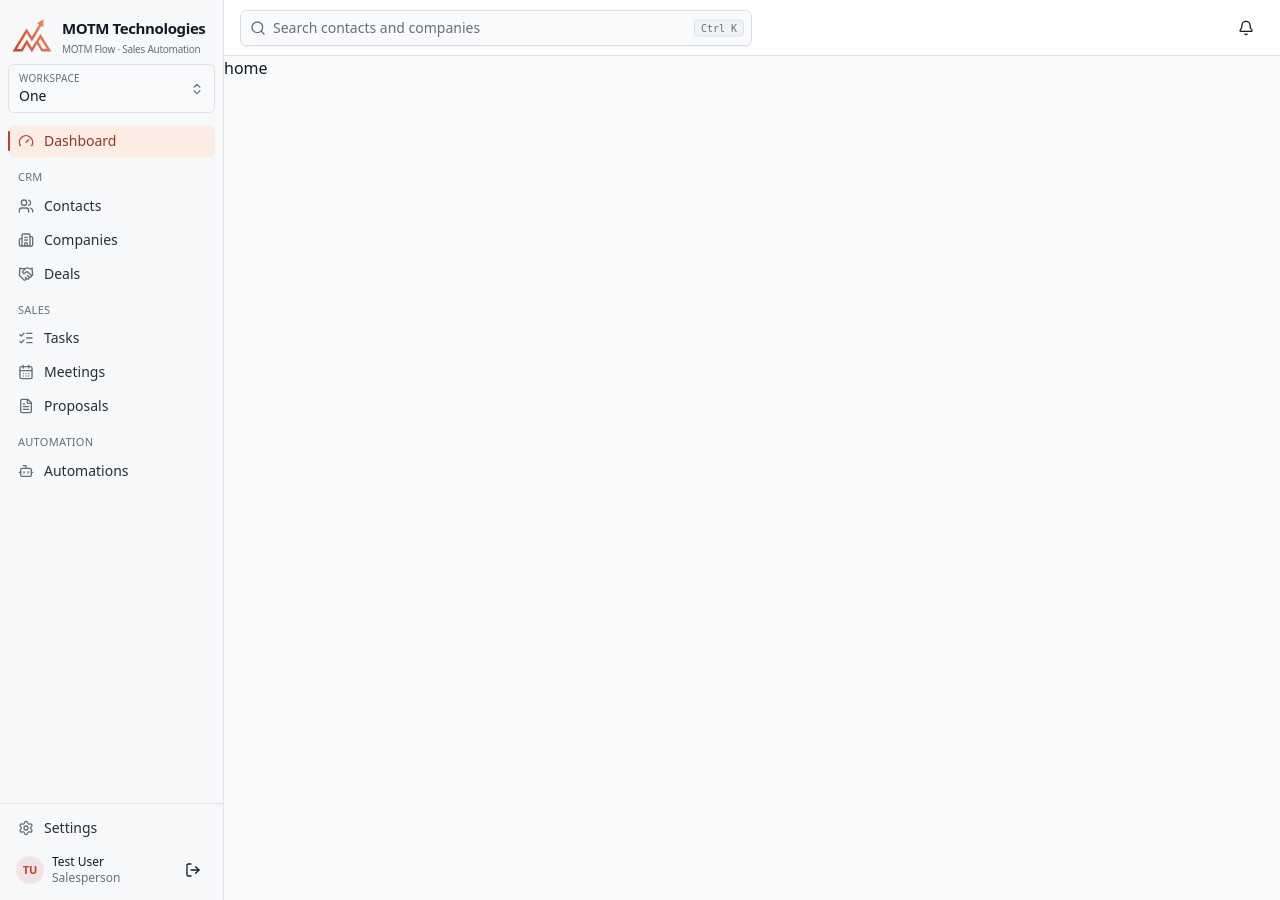
Test: AppShell top search bar › shows the server's matches with their company
Type "SMITH" into the dropdown with placeholder "Search contacts and companies".
click(496, 28); type("SMITH")  # box [240,10,752,46]
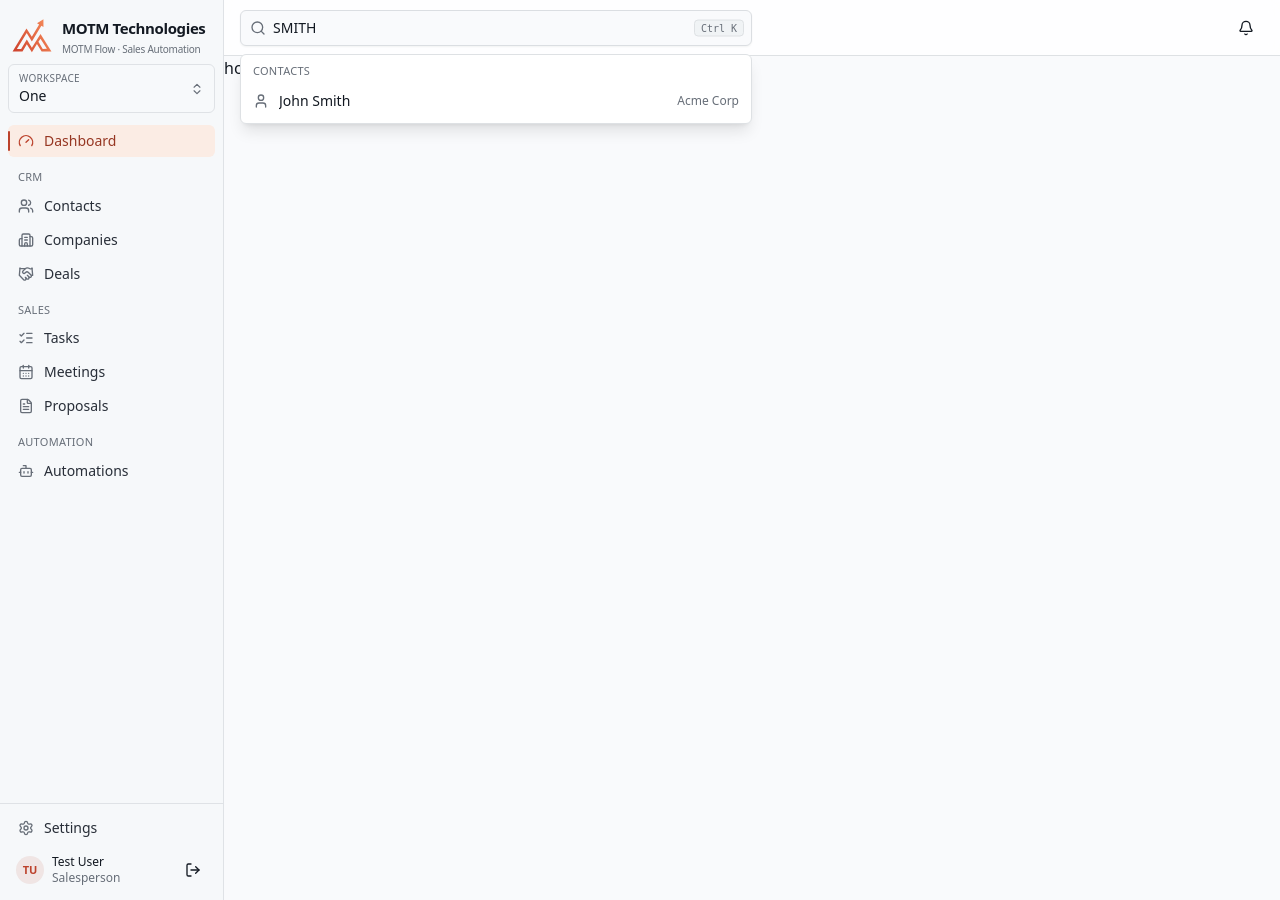
Expected: the text "Acme Corp" is shown, [677,93,739,109]
